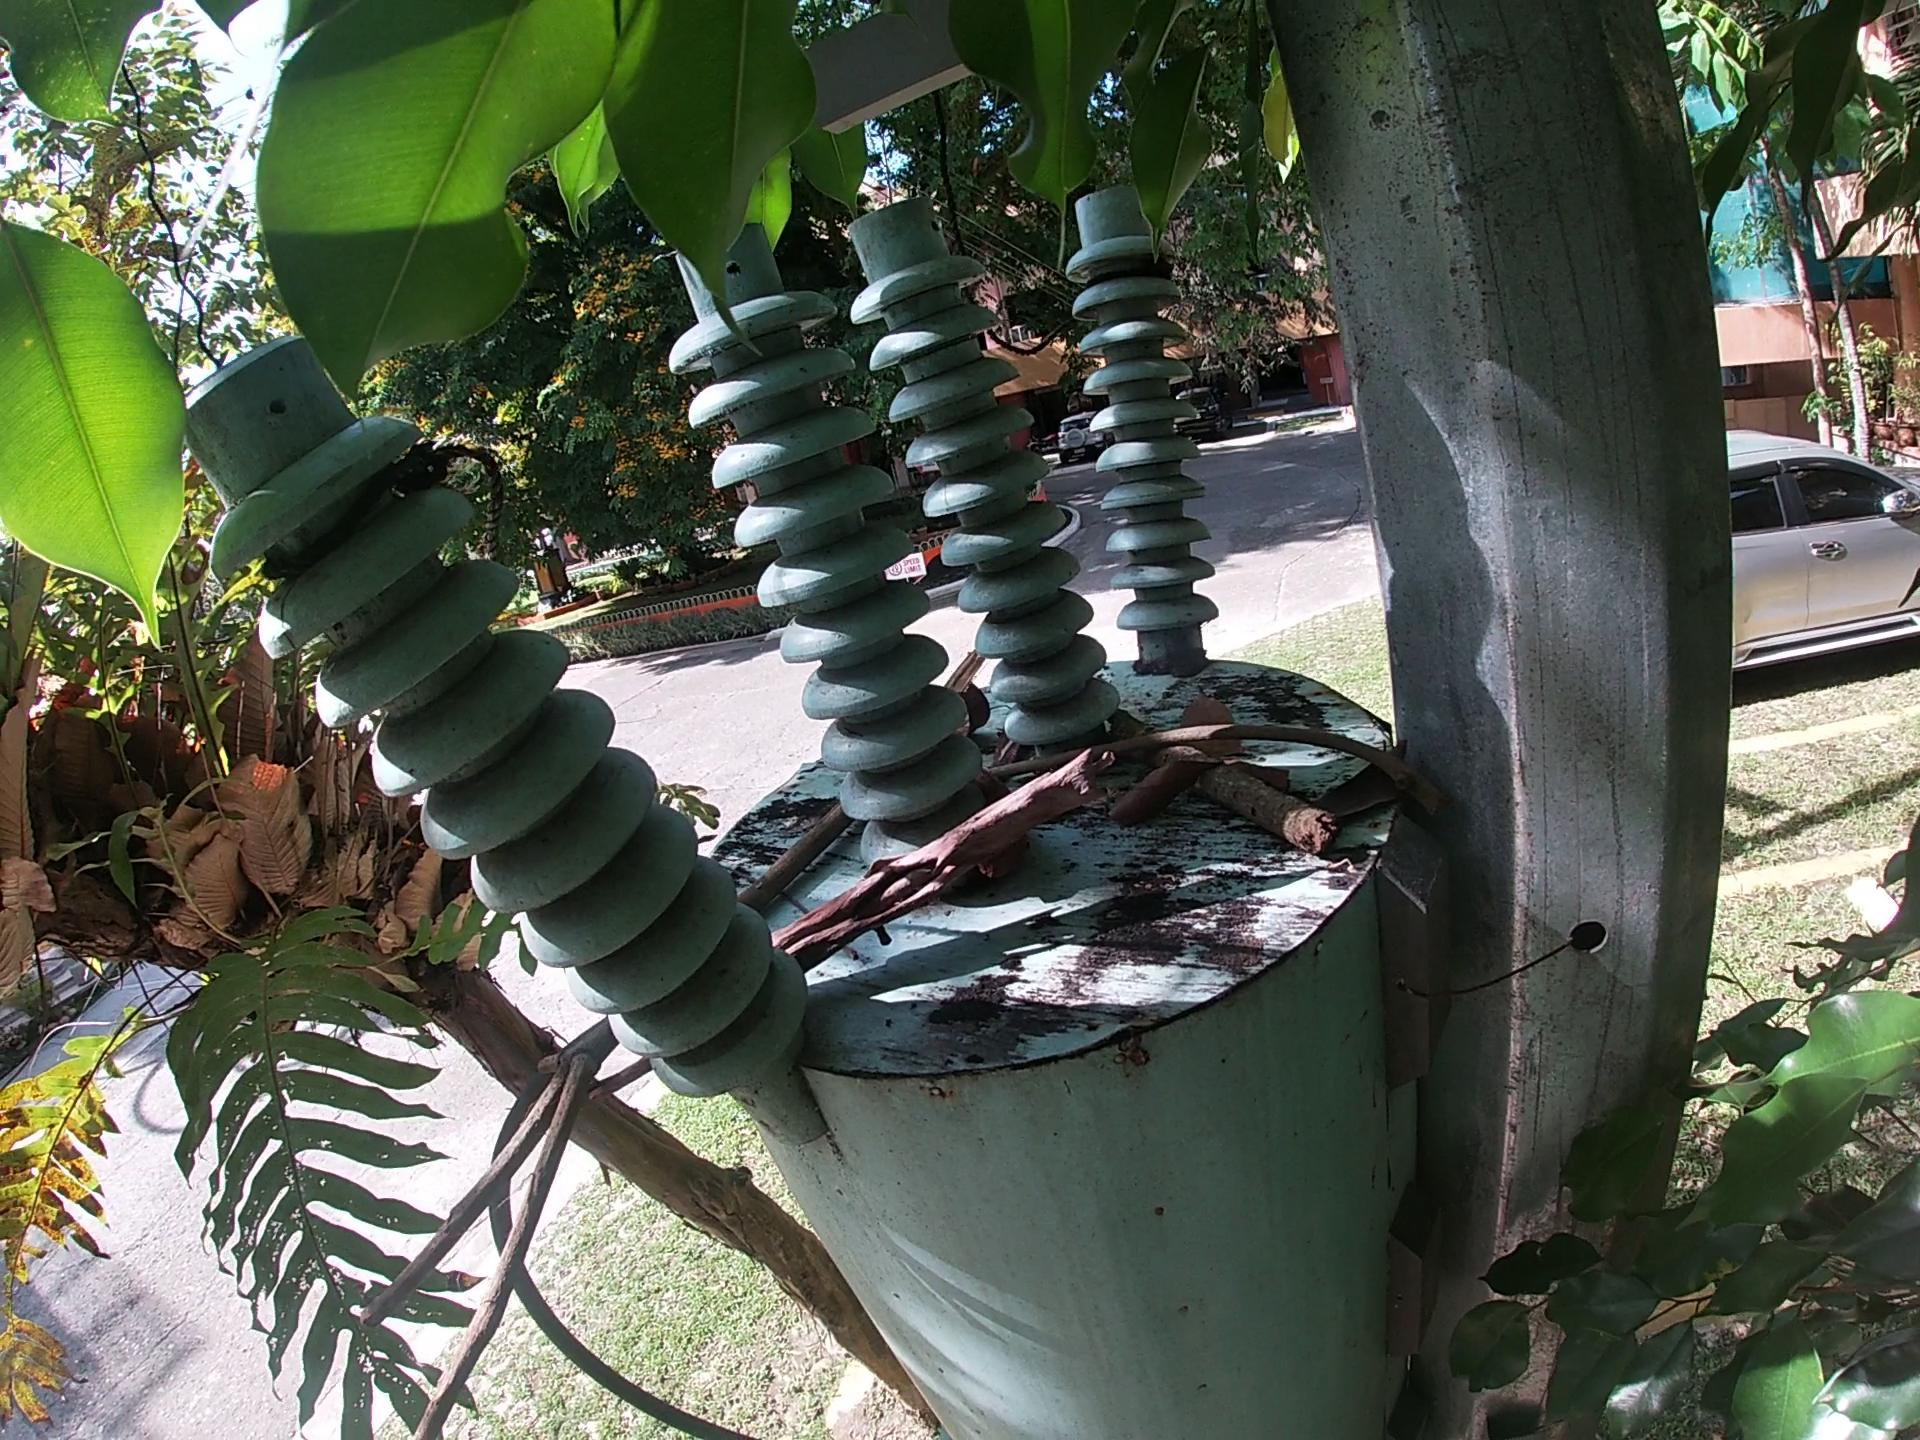leaf: (1184, 681, 1262, 758), (1108, 761, 1200, 812)
mahogany fruit: (955, 682, 1002, 715)
tree branch: (340, 1024, 667, 1437), (776, 735, 1129, 954), (1122, 711, 1330, 864), (974, 725, 1404, 774), (742, 802, 863, 906), (937, 632, 1005, 725)
